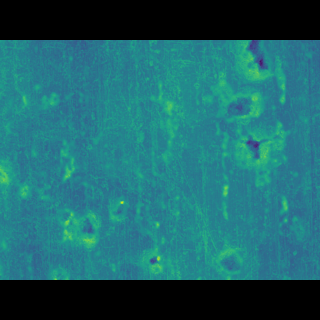Loch: (205, 68, 300, 195), (54, 191, 102, 225), (215, 225, 245, 245), (106, 183, 130, 207), (140, 228, 169, 245), (49, 237, 71, 250)
